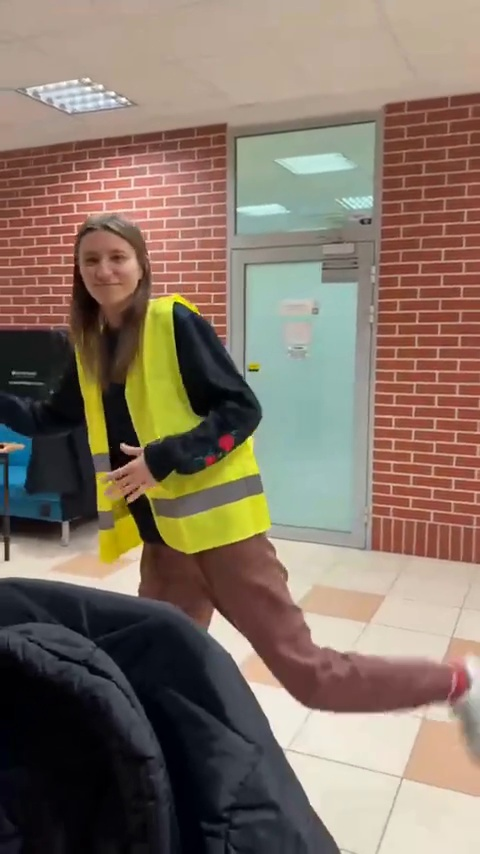vest: (63, 228, 351, 712)
